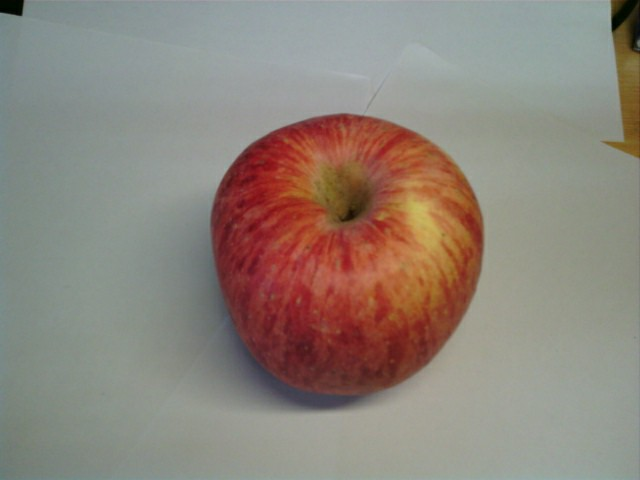normal_apple: (210, 113, 483, 395)
